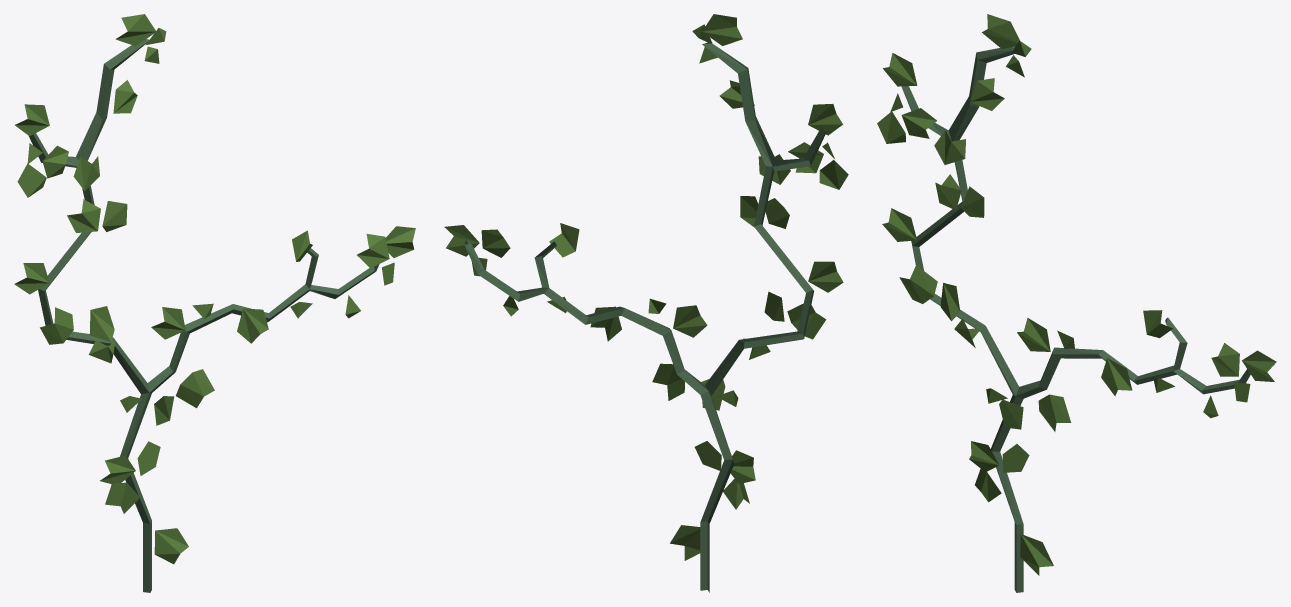
Rendered from SM_Env_Vines_Wall_01.glb.
3 views of the same model, side by side, from view 1: azimuth 30°, elevation 25°; view 2: azimuth 150°, elevation 25°; view 3: azimuth 330°, elevation 25° (orthographic).
Visible parts, largest first — view 1: SM_Env_Vines_Wall_01_part00; view 2: SM_Env_Vines_Wall_01_part00; view 3: SM_Env_Vines_Wall_01_part00.
Boxes of the visible parts, bbox=[...] form: SM_Env_Vines_Wall_01_part00: bbox=[14, 14, 415, 592]; SM_Env_Vines_Wall_01_part00: bbox=[444, 14, 848, 592]; SM_Env_Vines_Wall_01_part00: bbox=[877, 14, 1276, 592].
Size of the model in its own units: 1.93 by 2.67 by 0.1359.
Materials: 1 (1 with a texture image).
